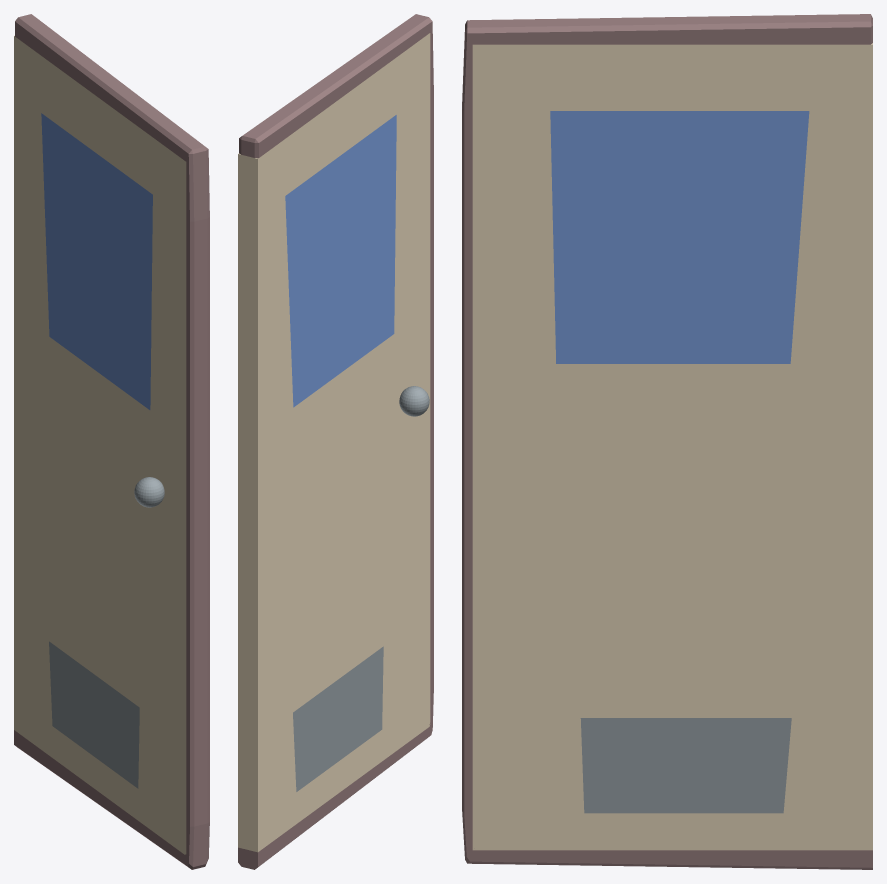
File: prop-door.fbx
The picture shows the model from 3 angles, left to right: view 1: azimuth 30°, elevation 25°; view 2: azimuth 150°, elevation 25°; view 3: azimuth 270°, elevation 25°; orthographic projection. The views are drawn at different scales.
Visible parts, largest first — view 1: Sphere; view 2: Sphere; view 3: Sphere.
Boxes of the visible parts, x1=… form: Sphere: x1=14, y1=14, x2=209, y2=869; Sphere: x1=238, y1=14, x2=433, y2=869; Sphere: x1=462, y1=14, x2=872, y2=869.
Size of the model in its own units: 13.17 by 211 by 92.39.
